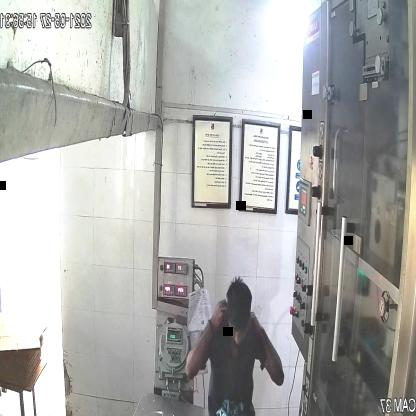no_goggles: (226, 317, 252, 338)
